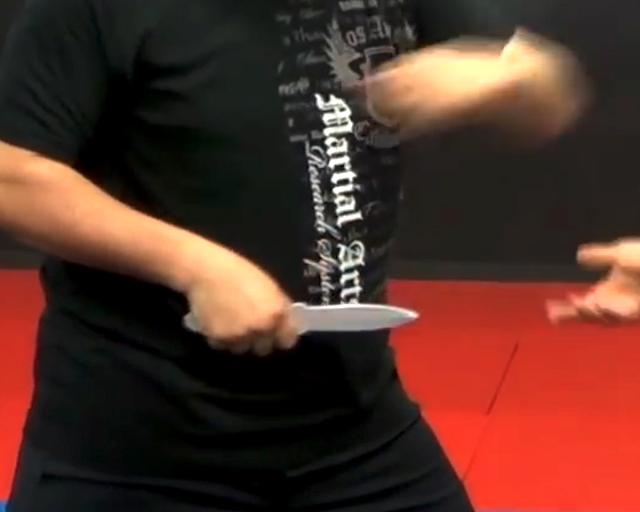pocket-knife: (184, 302, 433, 344)
